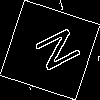N: (25, 25, 82, 78)
